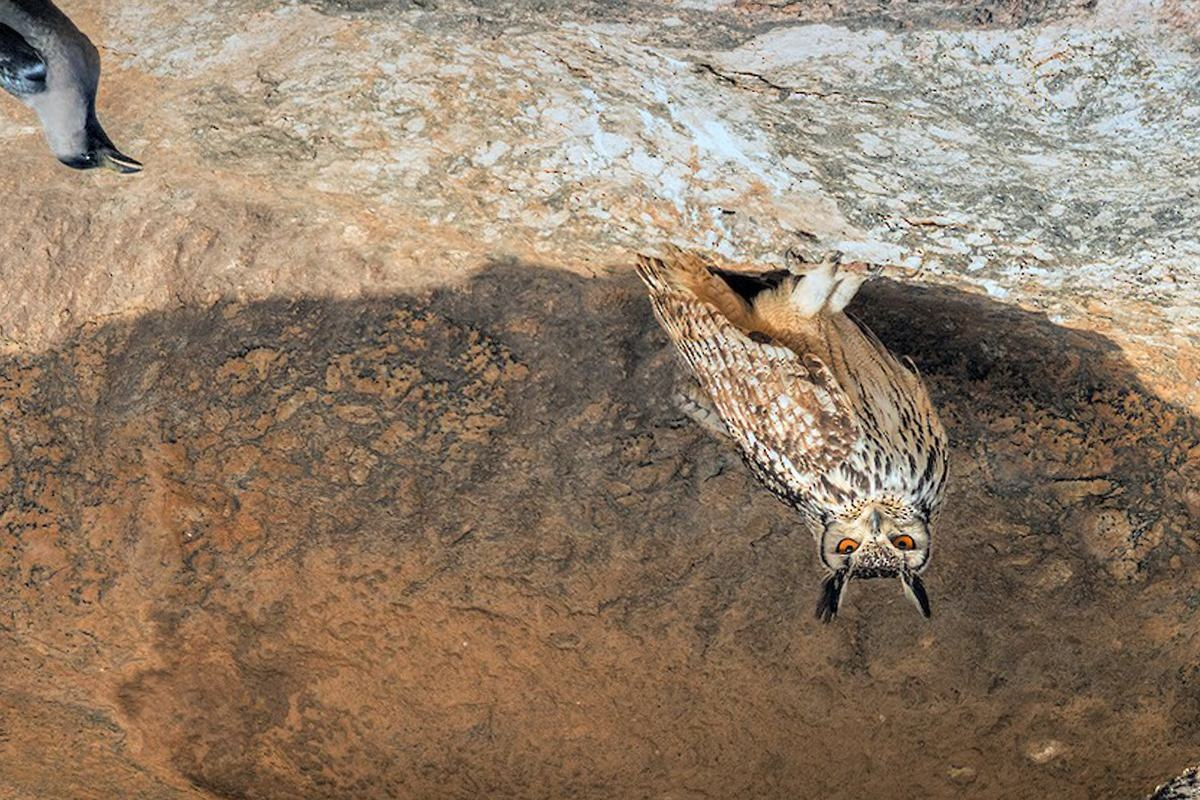crow: (1, 3, 152, 188)
